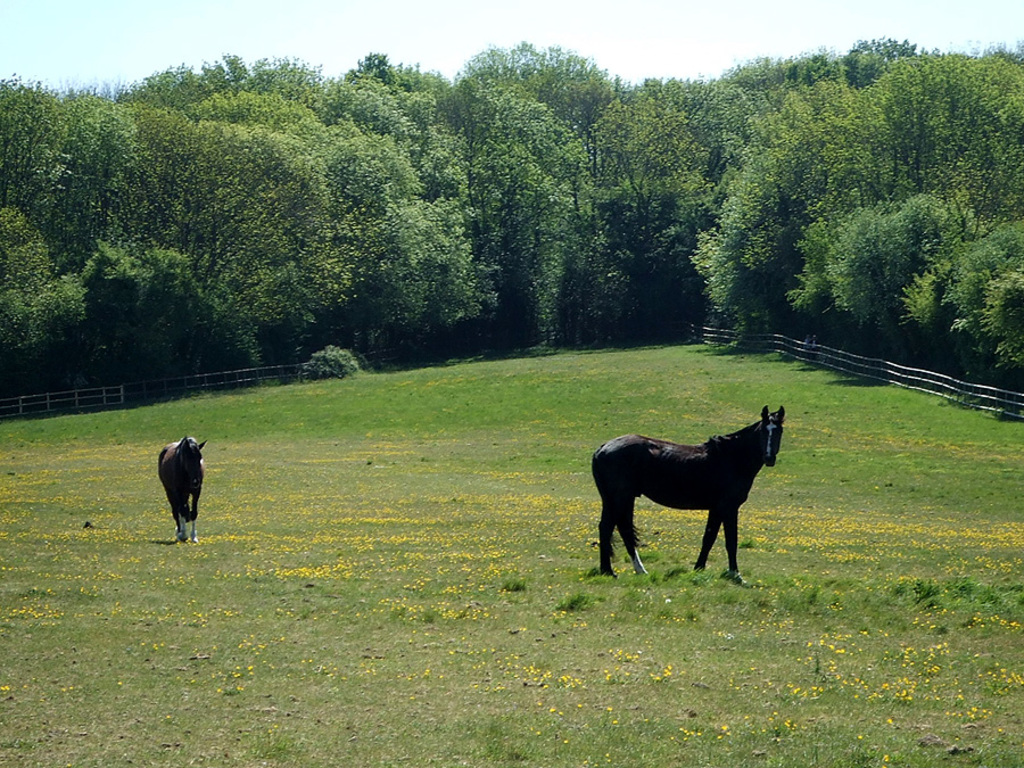horse: (587, 399, 786, 582), (160, 434, 205, 543)
